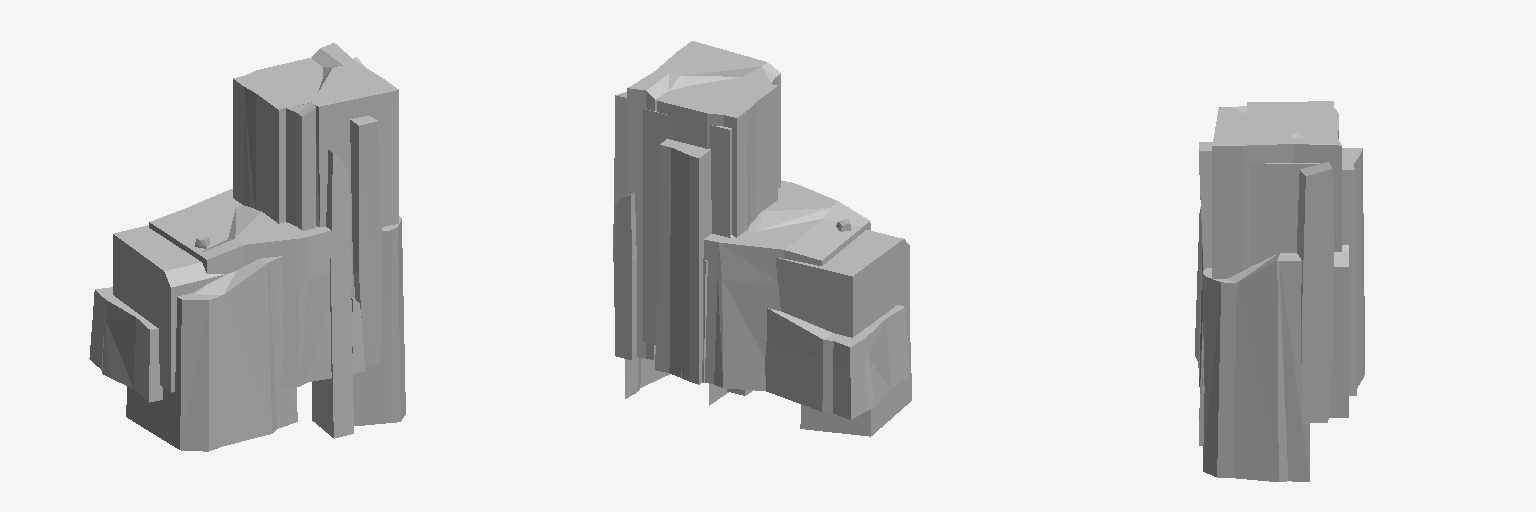
The model's file is cliff_1100_0100.obj.
3 views of the same model, side by side, from view 1: azimuth 30°, elevation 25°; view 2: azimuth 150°, elevation 25°; view 3: azimuth 270°, elevation 25° (orthographic).
Parts seen in each view (by area): view 1: tile_1100_0100; view 2: tile_1100_0100; view 3: tile_1100_0100.
Boxes of the visible parts, x1=… form: tile_1100_0100: x1=89, y1=43, x2=405, y2=451; tile_1100_0100: x1=613, y1=41, x2=911, y2=436; tile_1100_0100: x1=1195, y1=101, x2=1364, y2=481.
Bounding box in the file's own units: 2.34 × 2.81 × 1.33.